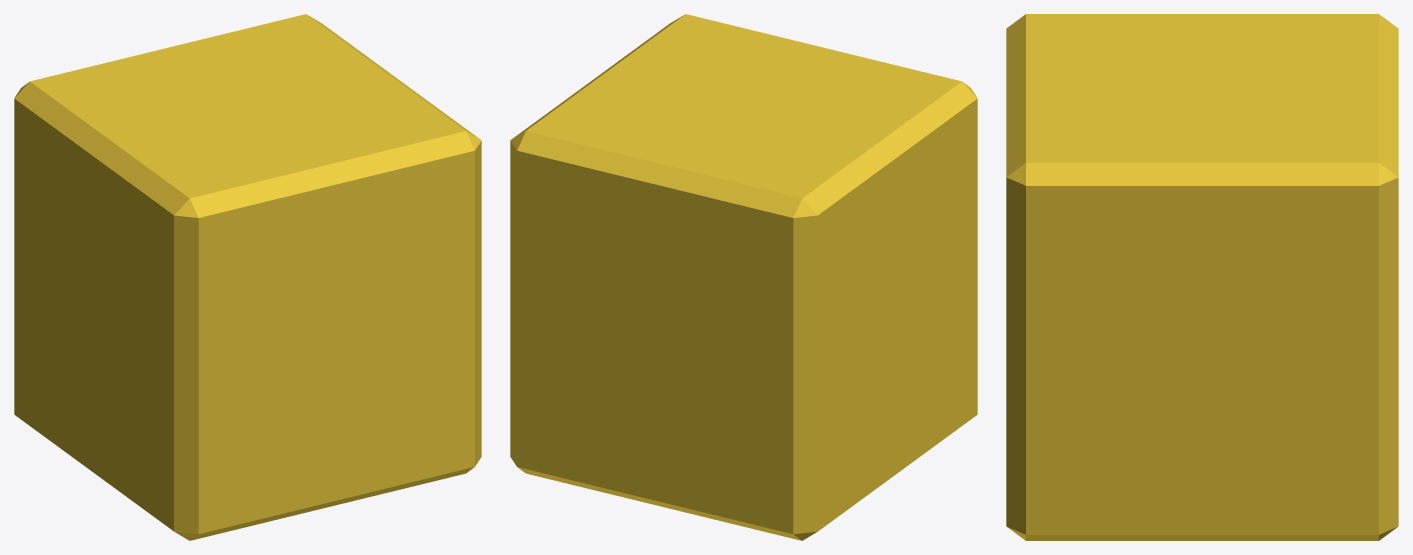
3 views of the same model, side by side, from view 1: azimuth 30°, elevation 25°; view 2: azimuth 150°, elevation 25°; view 3: azimuth 270°, elevation 25° (orthographic). The views are drawn at different scales.
Parts seen in each view (by area): view 1: Cube; view 2: Cube; view 3: Cube.
Part boxes in pixels (x1,y1,x2,y2): Cube: [14, 14, 481, 540]; Cube: [510, 14, 977, 540]; Cube: [1006, 14, 1398, 540].
Size of the model in its own units: 2 by 2.13 by 2.
